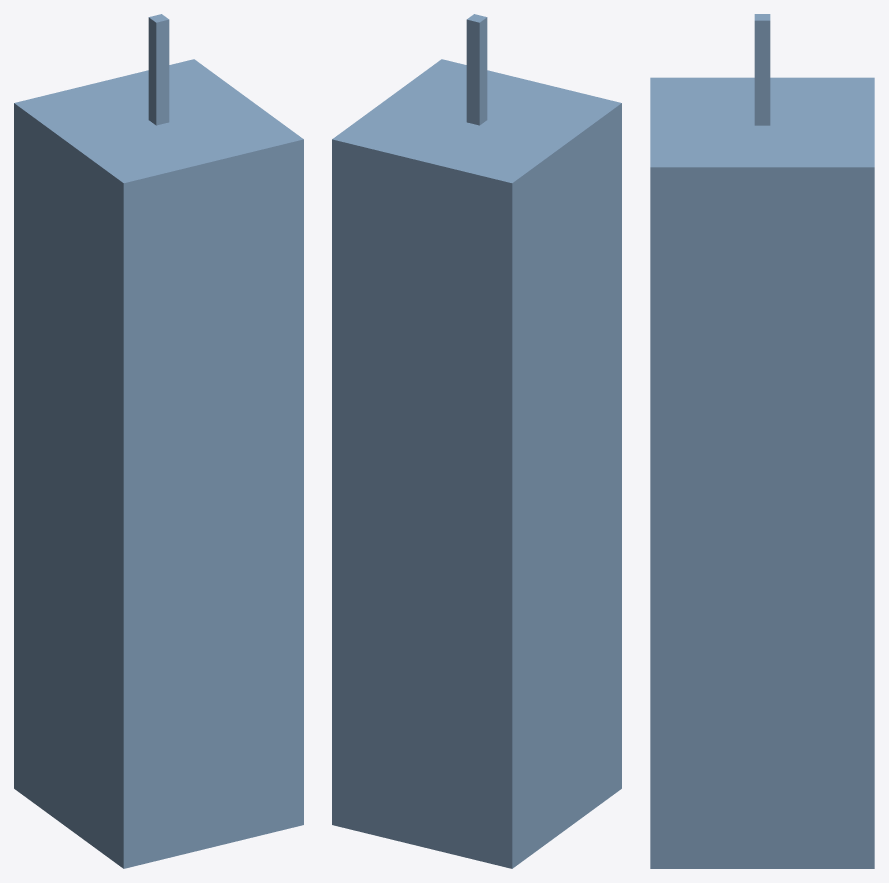
The model's file is tower_plain.glb.
3 renders of one model, left to right at view 1: azimuth 30°, elevation 25°; view 2: azimuth 150°, elevation 25°; view 3: azimuth 270°, elevation 25°, orthographic. The views are drawn at different scales.
Parts seen in each view (by area): view 1: tower_plain; view 2: tower_plain; view 3: tower_plain.
Boxes of the visible parts, x1,y1,x2,y2 form: tower_plain: (14,14,303,868); tower_plain: (332,14,621,868); tower_plain: (650,14,874,868).
Size of the model in its own units: 0.55 by 2.3 by 0.58.
